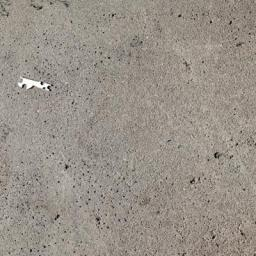FOD: (14, 74, 54, 95)
